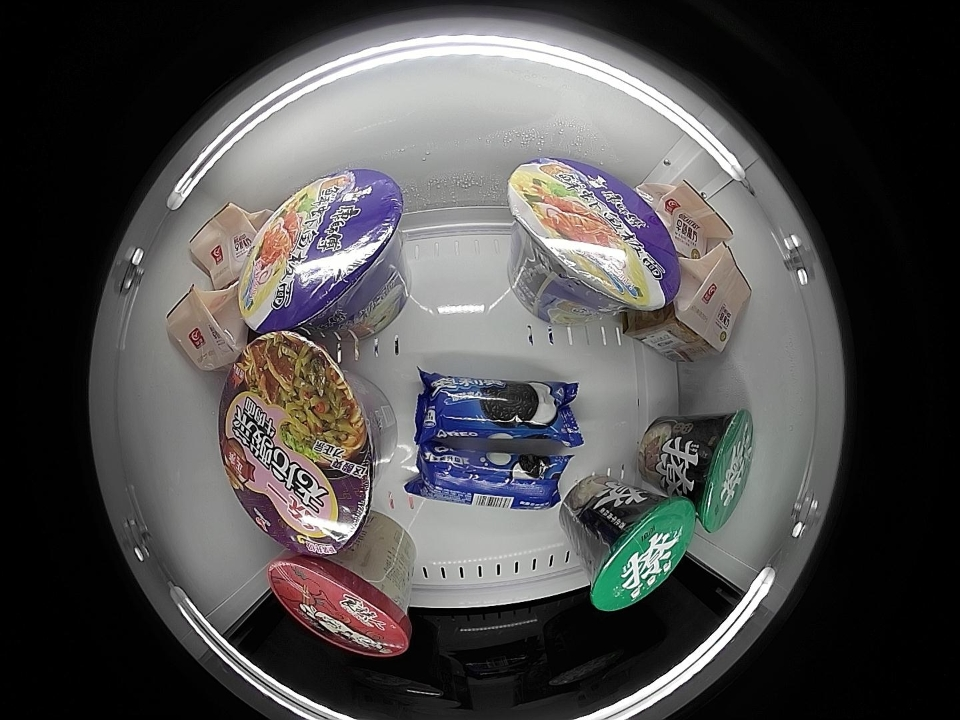aoliao: (417, 375, 575, 446), (415, 443, 568, 509)
laotansuancai: (220, 331, 377, 556)
liaomian: (587, 494, 697, 611), (684, 409, 755, 532)
suanlafen: (268, 552, 411, 656)
xianxiayuban: (236, 169, 402, 334), (509, 158, 680, 311)
zaocanmofang: (670, 243, 752, 355), (163, 284, 239, 369), (651, 178, 734, 252), (186, 201, 254, 285)
